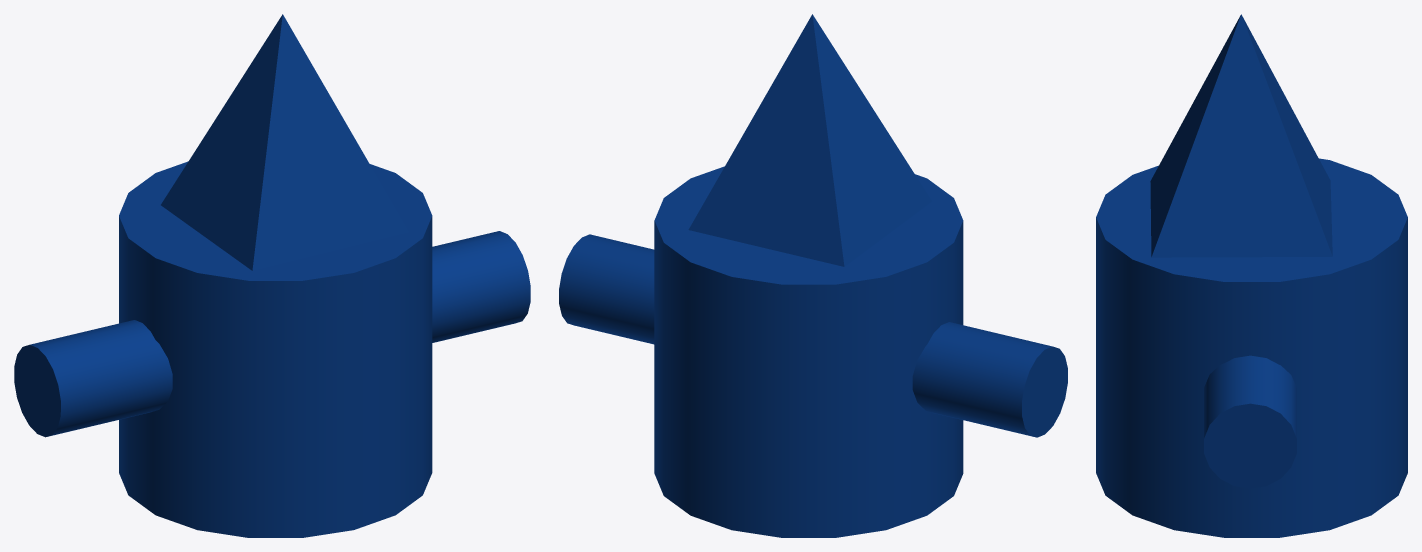
Rendered from cos1.obj.
3 renders of one model, left to right at view 1: azimuth 30°, elevation 25°; view 2: azimuth 150°, elevation 25°; view 3: azimuth 270°, elevation 25°, orthographic.
Parts seen in each view (by area): view 1: Tube001; view 2: Tube001; view 3: Tube001.
Part boxes in pixels (bbox=[...]): Tube001: bbox=[14, 14, 530, 537]; Tube001: bbox=[559, 14, 1067, 537]; Tube001: bbox=[1096, 14, 1407, 537].
Bounding box in the file's own units: 136 × 127 × 78.34.
